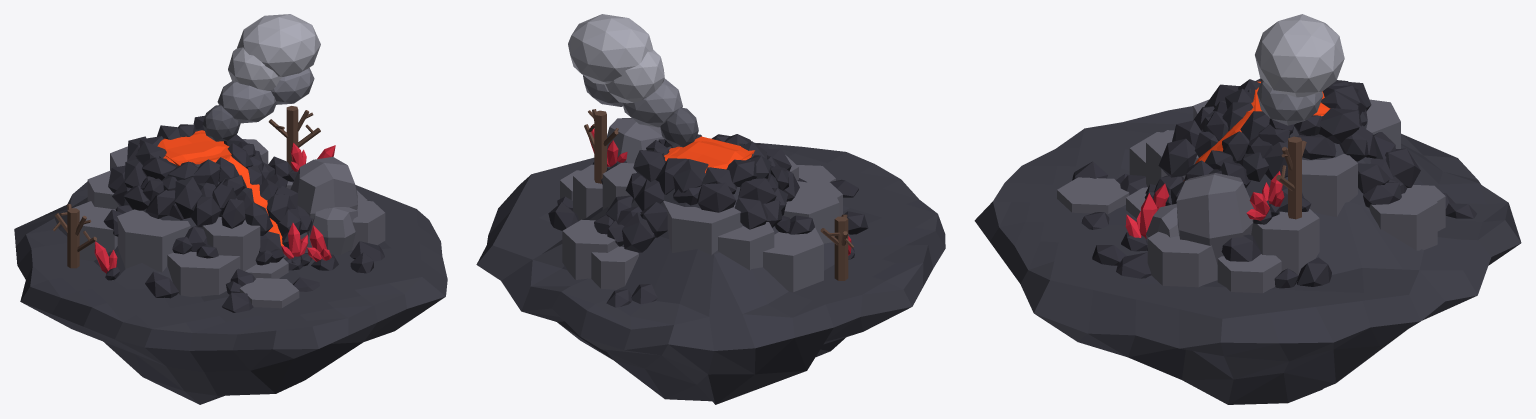
File: Island_Red.glb
3 renders of one model, left to right at view 1: azimuth 30°, elevation 25°; view 2: azimuth 150°, elevation 25°; view 3: azimuth 270°, elevation 25°, orthographic. The views are drawn at different scales.
Parts seen in each view (by area): view 1: Cone, Cube, Icosphere.049, Cylinder.002, Cylinder, Cylinder.005, Icosphere.047, Cylinder.003, Icosphere.046, Cylinder.024, Plane, Cylinder.025 (+23 smaller); view 2: Cone, Icosphere.049, Cylinder.003, Cylinder.028, Cylinder.022, Cylinder.002, Icosphere.046, Cylinder.029, Icosphere.047, Cylinder.023, Cube, Plane (+20 smaller); view 3: Cone, Icosphere.049, Cube, Cylinder.025, Cylinder.004, Cylinder.022, Cylinder.027, Cylinder.024, Cylinder.026, Icosphere.048, Cylinder.028, Icosphere.079 (+20 smaller).
Part boxes in pixels (left/top/right/bottom): Cone: left=14, top=129, right=447, bottom=404; Cube: left=290, top=157, right=357, bottom=254; Icosphere.049: left=237, top=14, right=320, bottom=76; Cylinder.002: left=117, top=209, right=190, bottom=272; Cylinder: left=167, top=251, right=240, bottom=296; Cylinder.005: left=201, top=217, right=260, bottom=270; Icosphere.047: left=217, top=81, right=276, bottom=123; Cylinder.003: left=72, top=201, right=117, bottom=260; Icosphere.046: left=228, top=47, right=282, bottom=90; Cylinder.024: left=239, top=278, right=299, bottom=308; Plane: left=157, top=131, right=229, bottom=164; Cylinder.025: left=351, top=200, right=385, bottom=250; Cone: left=476, top=142, right=945, bottom=404; Icosphere.049: left=568, top=14, right=652, bottom=84; Cylinder.003: left=763, top=227, right=823, bottom=292; Cylinder.028: left=663, top=200, right=742, bottom=255; Cylinder.022: left=562, top=219, right=618, bottom=279; Cylinder.002: left=783, top=181, right=839, bottom=243; Icosphere.046: left=604, top=49, right=664, bottom=103; Cylinder.029: left=718, top=222, right=774, bottom=270; Icosphere.047: left=622, top=78, right=682, bottom=127; Cylinder.023: left=591, top=246, right=638, bottom=289; Cube: left=607, top=118, right=664, bottom=163; Plane: left=664, top=141, right=751, bottom=173; Cone: left=974, top=88, right=1521, bottom=404; Icosphere.049: left=1255, top=14, right=1344, bottom=97; Cube: left=1146, top=173, right=1253, bottom=264; Cylinder.025: left=1147, top=231, right=1217, bottom=287; Cylinder.004: left=1251, top=209, right=1319, bottom=275; Cylinder.022: left=1369, top=188, right=1437, bottom=250; Cylinder.027: left=1302, top=153, right=1357, bottom=216; Cylinder.024: left=1057, top=177, right=1129, bottom=214; Cylinder.026: left=1217, top=254, right=1281, bottom=293; Icosphere.048: left=1257, top=79, right=1322, bottom=125; Cylinder.028: left=1366, top=99, right=1400, bottom=148; Icosphere.079: left=1319, top=108, right=1359, bottom=143.
Size of the model in its own units: 7.52 by 6.36 by 7.58.
